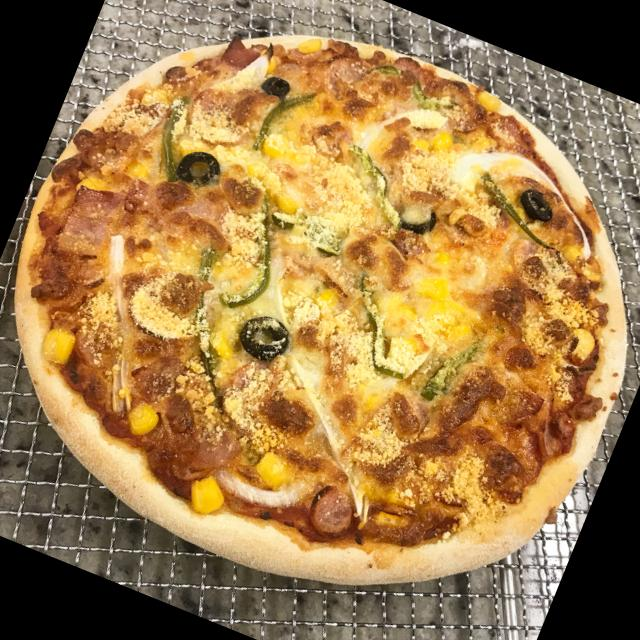black_olives: (232, 306, 296, 366), (168, 142, 224, 196), (394, 198, 438, 240), (516, 185, 561, 225), (254, 70, 294, 104)
peppers: (146, 244, 267, 404), (328, 274, 439, 386), (208, 183, 298, 320), (243, 74, 314, 168), (418, 322, 491, 410), (139, 88, 201, 182)
pizza: (11, 34, 628, 590)
